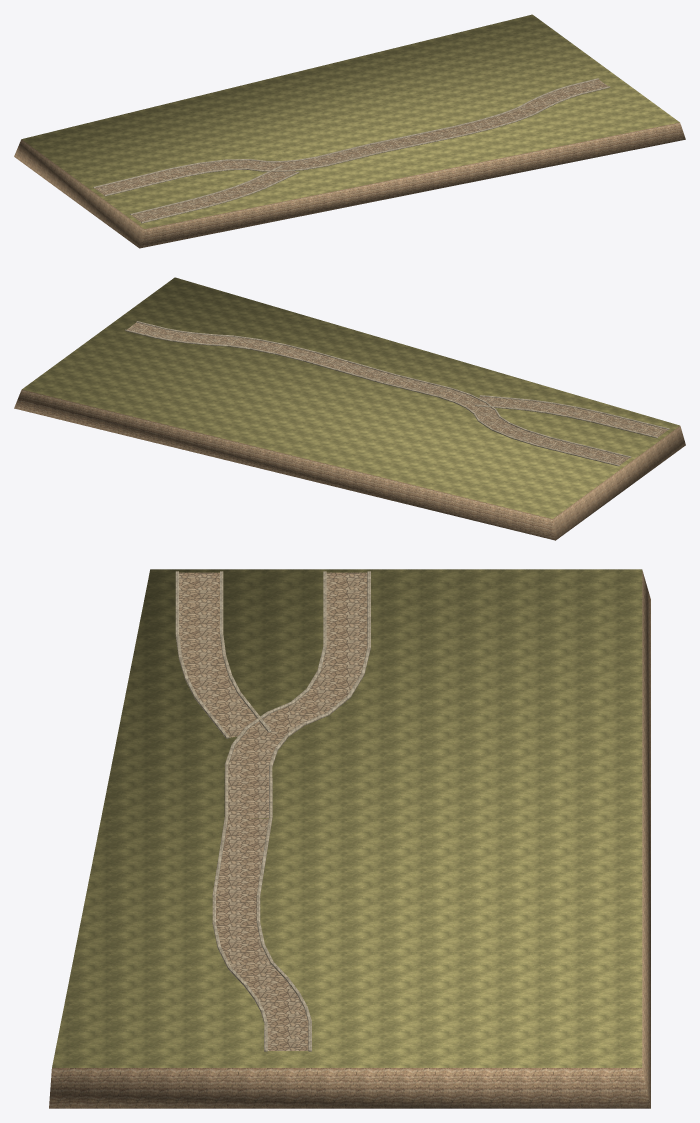
The model's file is 08_Termopile_teren.glb.
3 views of the same model, one above another, from view 1: azimuth 30°, elevation 25°; view 2: azimuth 150°, elevation 25°; view 3: azimuth 270°, elevation 25° (orthographic). The views are drawn at different scales.
Visible parts, largest first — view 1: pass, path_0.007, path_2.002, path_1.002; view 2: pass, path_0.007, path_2.002, path_1.002; view 3: pass, path_0.007, path_2.002, path_1.002.
Boxes of the visible parts, x1,y1,x2,y2 form: pass: (14,14,685,248); path_0.007: (94,145,379,194); path_2.002: (371,79,607,151); path_1.002: (131,166,296,221); pass: (14,277,685,540); path_0.007: (385,375,629,464); path_2.002: (127,322,393,382); path_1.002: (479,396,667,436); pass: (49,569,650,1108); path_0.007: (228,572,367,817); path_2.002: (216,817,308,1050); path_1.002: (179,572,266,737).
Size of what is drawn, in the model's own units: 245 by 8.44 by 122.
Materials: 4 (4 with a texture image).
